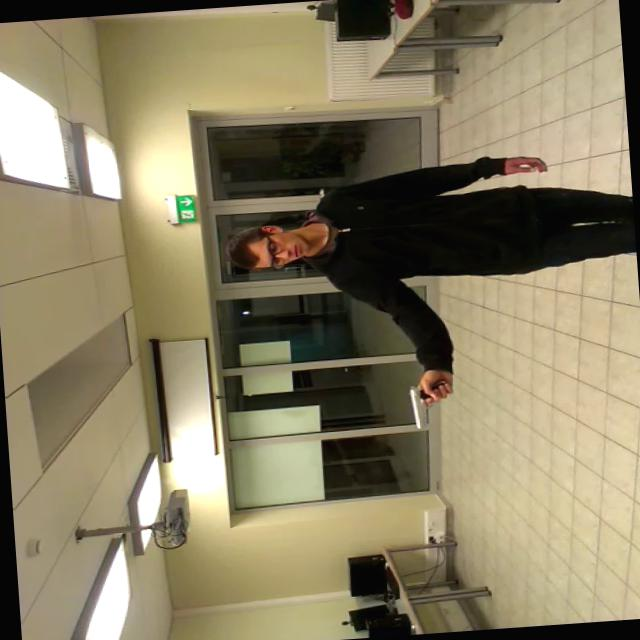handgun: (392, 355, 472, 450)
